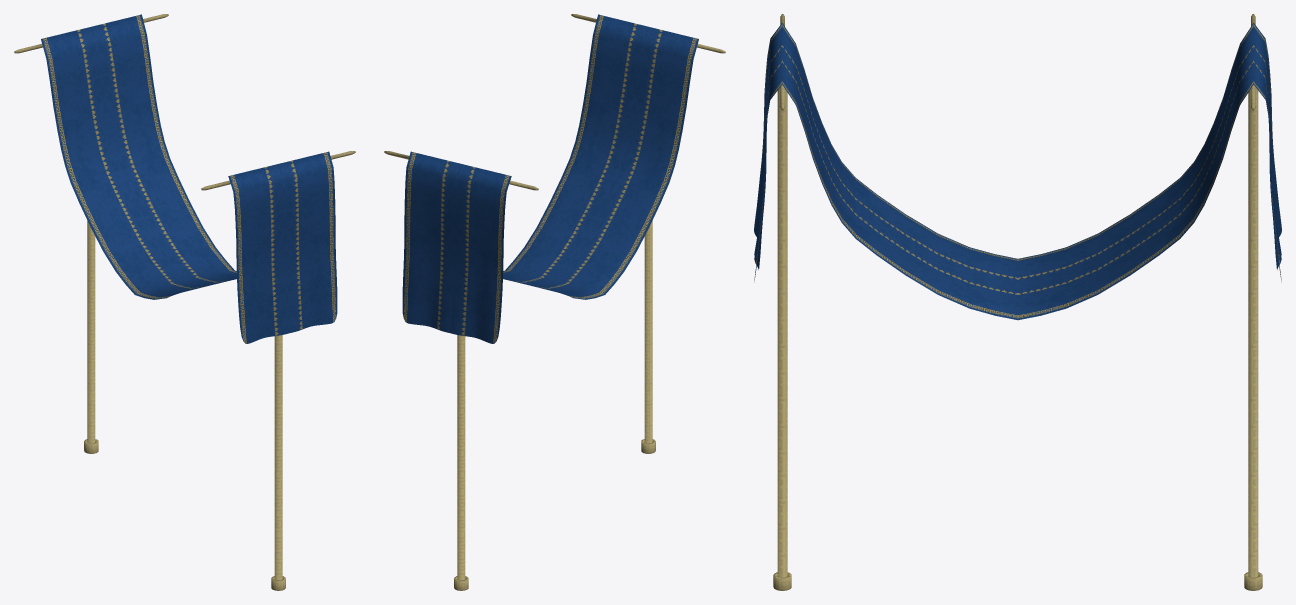
File: SM_tent_02.glb
The picture shows the model from 3 angles, left to right: view 1: azimuth 30°, elevation 25°; view 2: azimuth 150°, elevation 25°; view 3: azimuth 270°, elevation 25°; orthographic projection. The views are drawn at different scales.
Visible parts, largest first — view 1: SM_tent_02; view 2: SM_tent_02; view 3: SM_tent_02.
Boxes of the visible parts, x1,y1,x2,y2 form: SM_tent_02: (14,14,355,590); SM_tent_02: (384,14,725,590); SM_tent_02: (754,14,1281,590).
Bounding box in the file's own units: 6.07 × 16.04 × 14.39.
2 materials, 2 textured.
